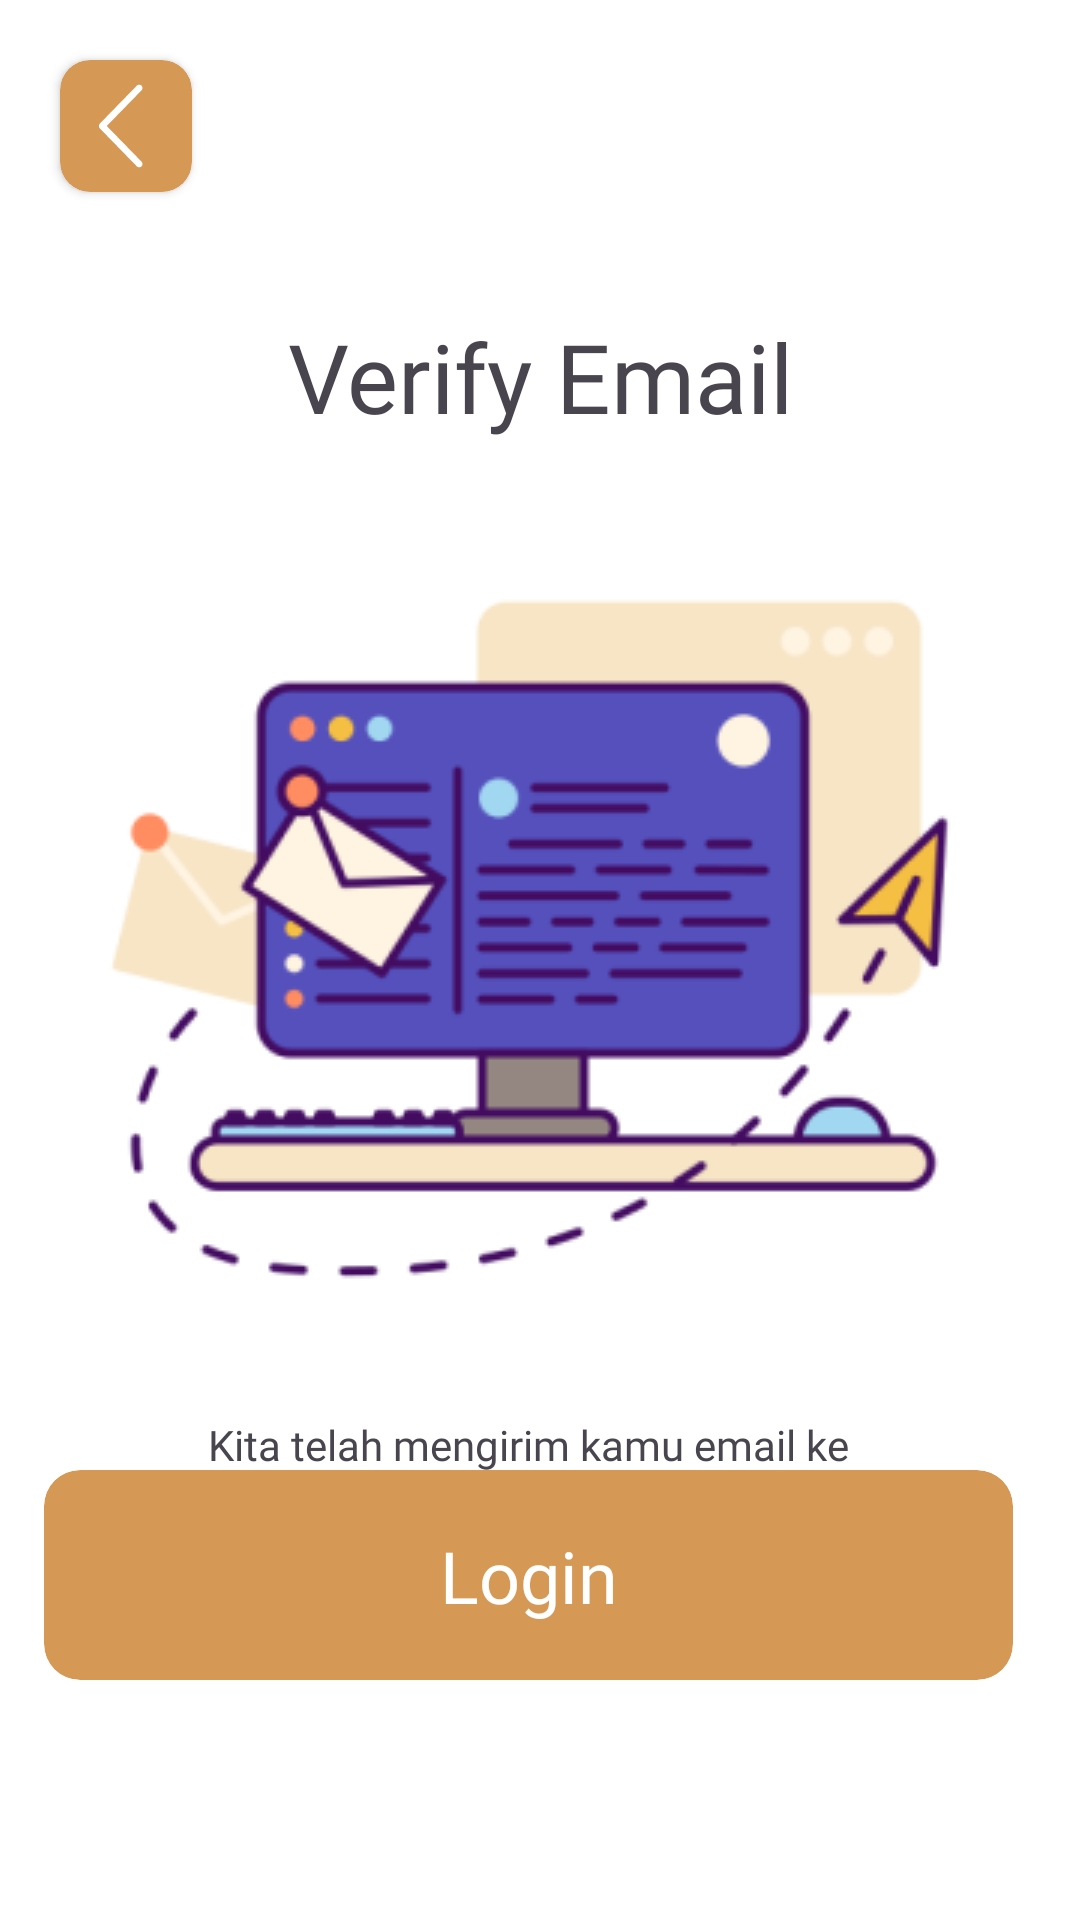

Where icons sit on this 1080px×1920px app screen, as (x1=x1, y1=y1, x2=x2, y2=y2):
ep arrow left: (x1=99, y1=84, x2=143, y2=168)
